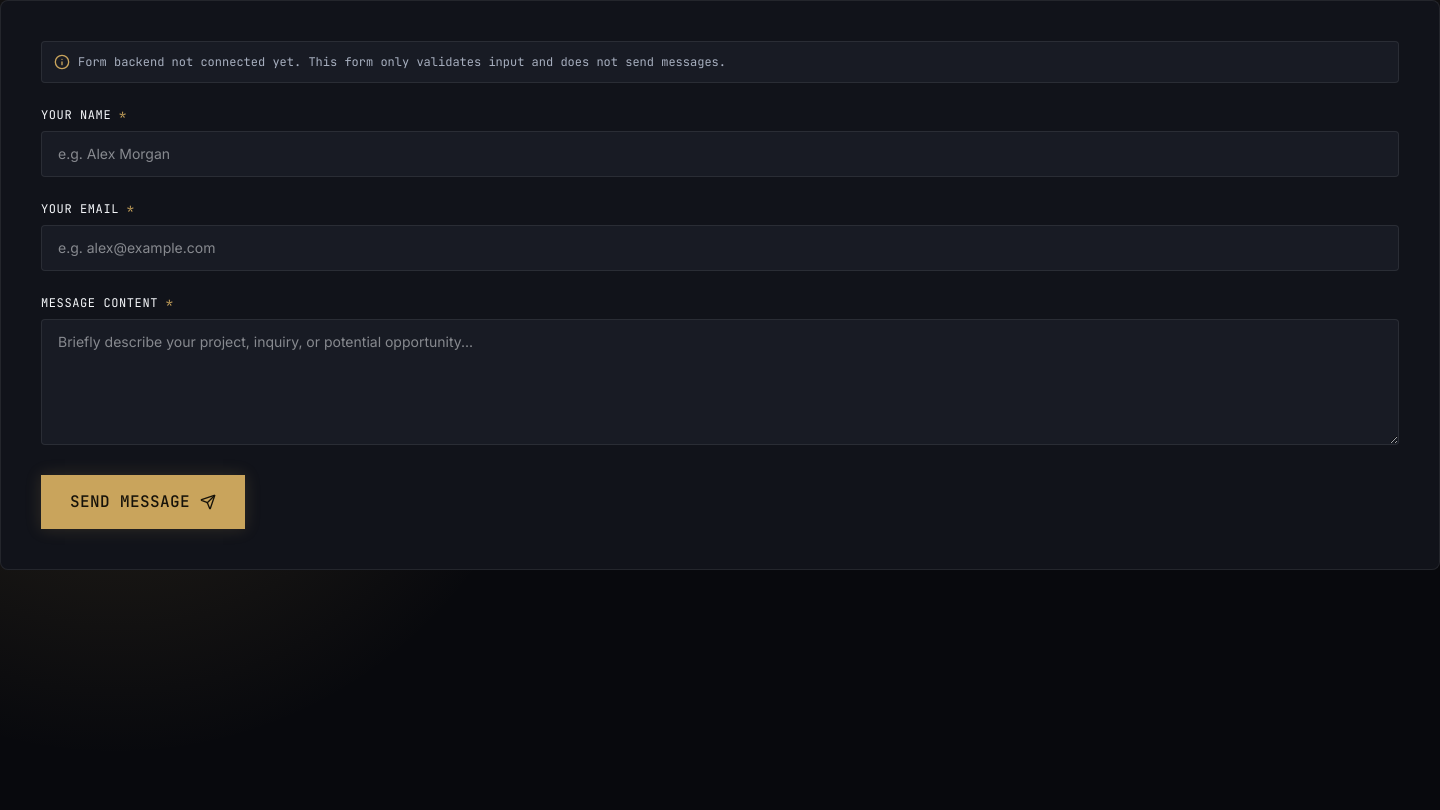
ContactForm › clears errors and shows the validated state on a successful submission
In the field labelled "YOUR NAME *": (720, 154) [41,131,1399,177], type "Ada Lovelace"
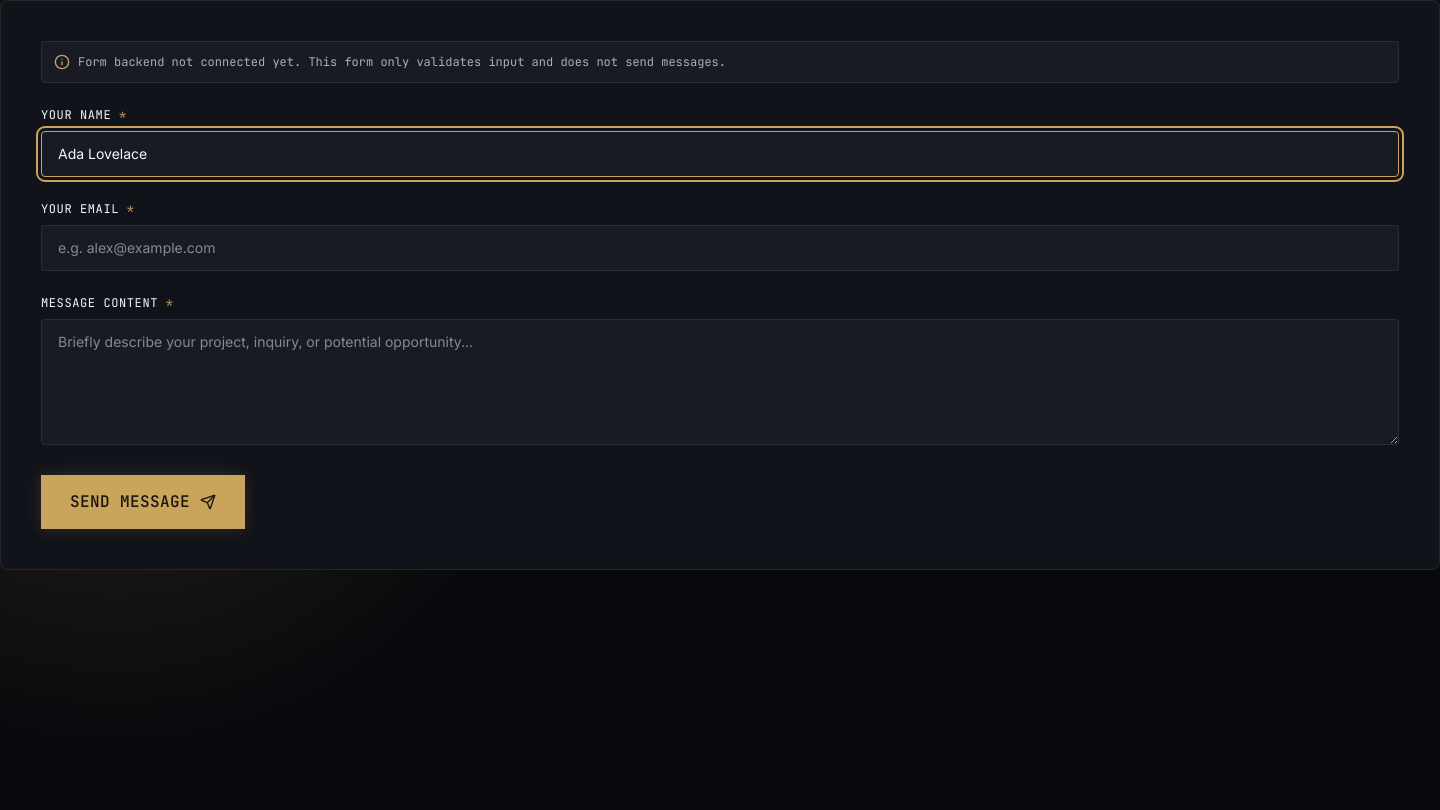
In the field labelled "YOUR EMAIL *": (720, 248) [41,225,1399,271], type "ada@example.com"
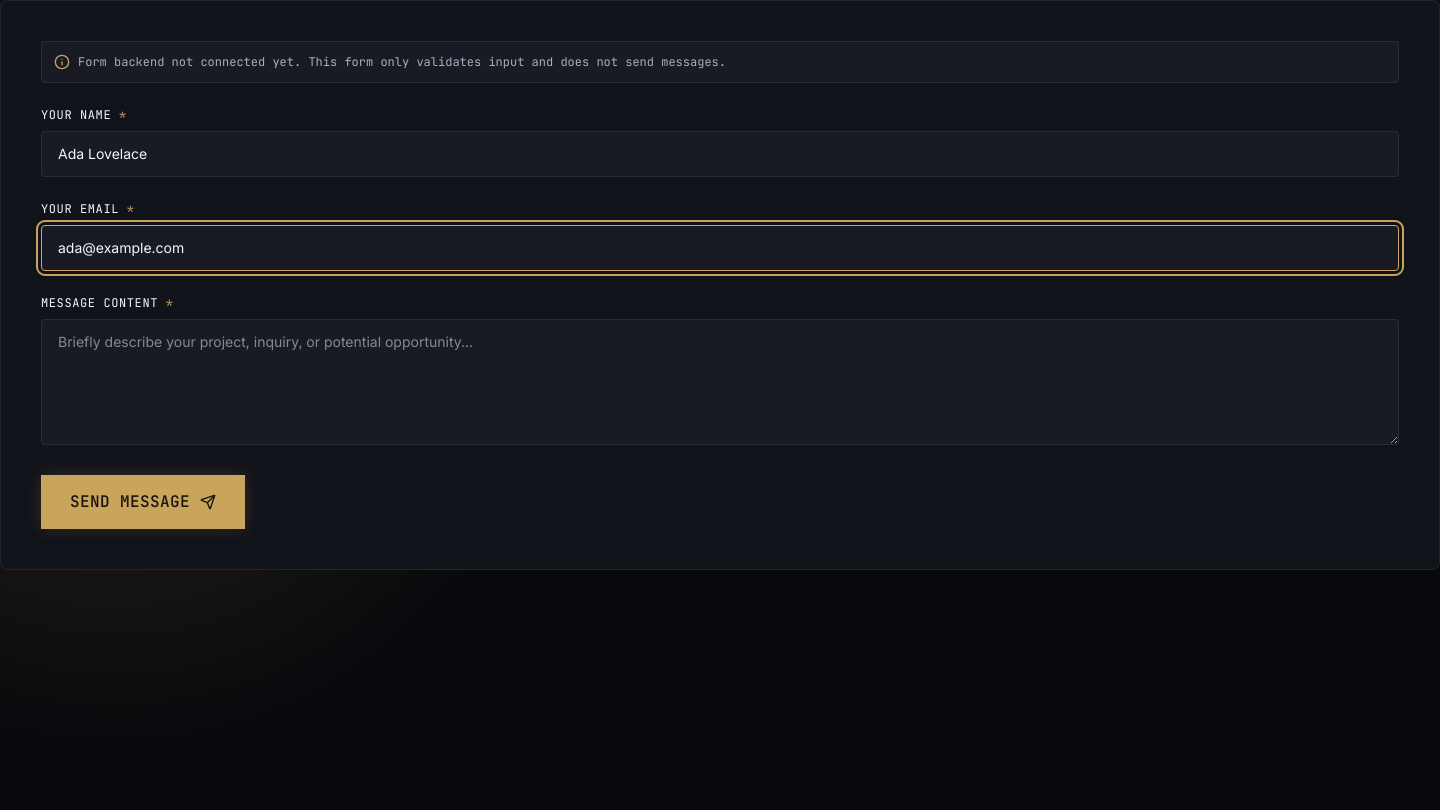
In the text box labelled "MESSAGE CONTENT *": (720, 382) [41,319,1399,445], type "Hello Rahul, I would love to discuss a collaboration."
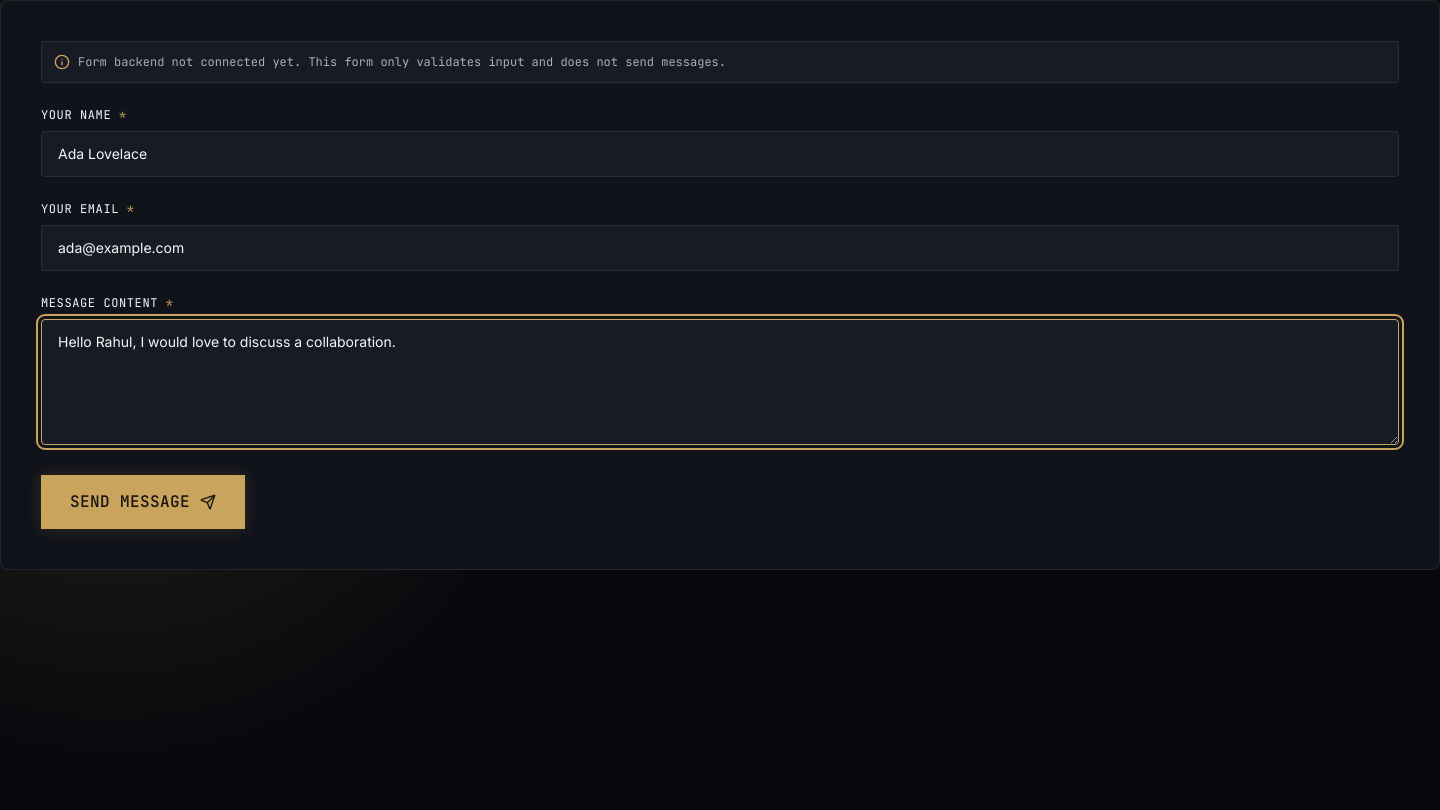
Click the button "SEND MESSAGE": (143, 502) [41,475,245,529]
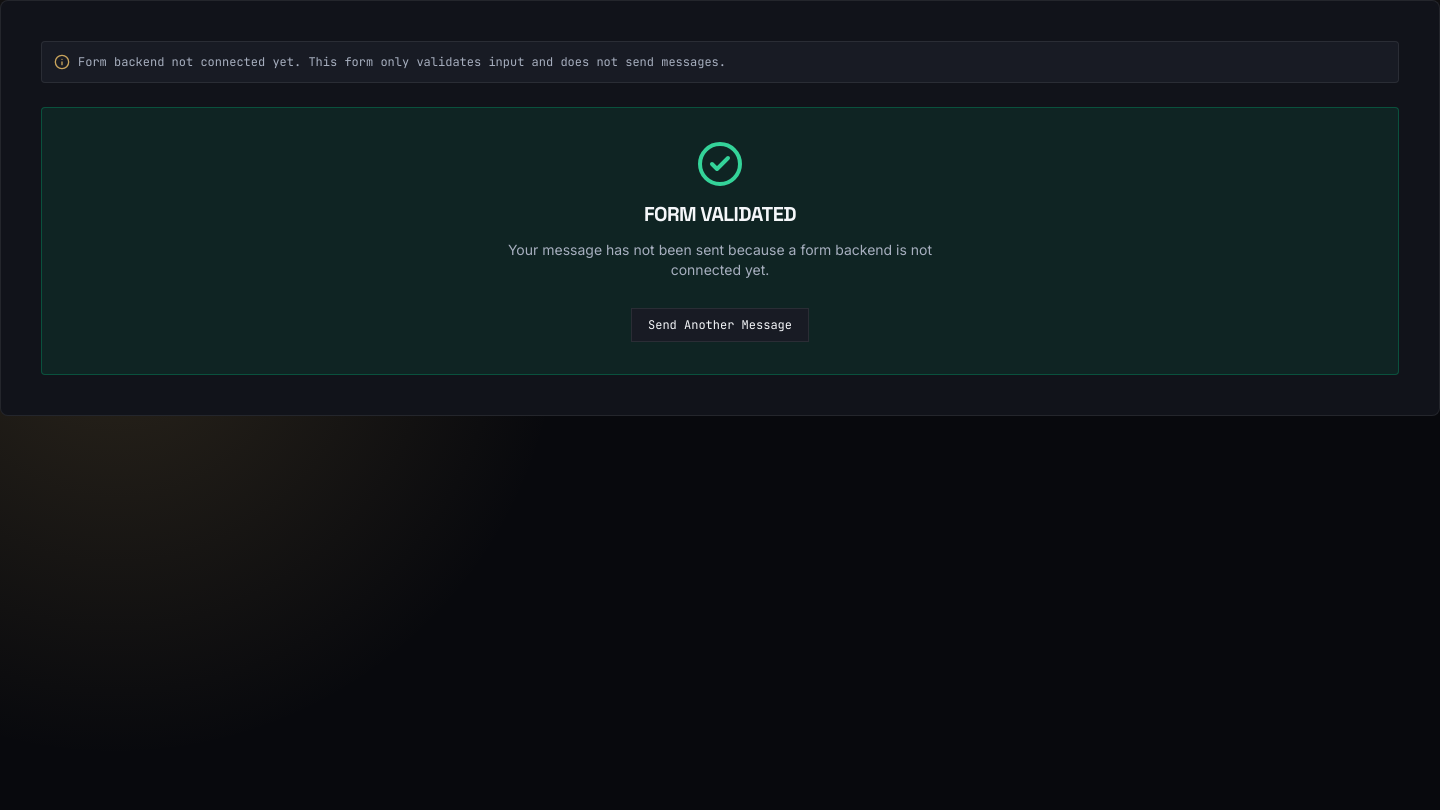
Expected: the heading "FORM VALIDATED" is shown, [644,201,796,227]
